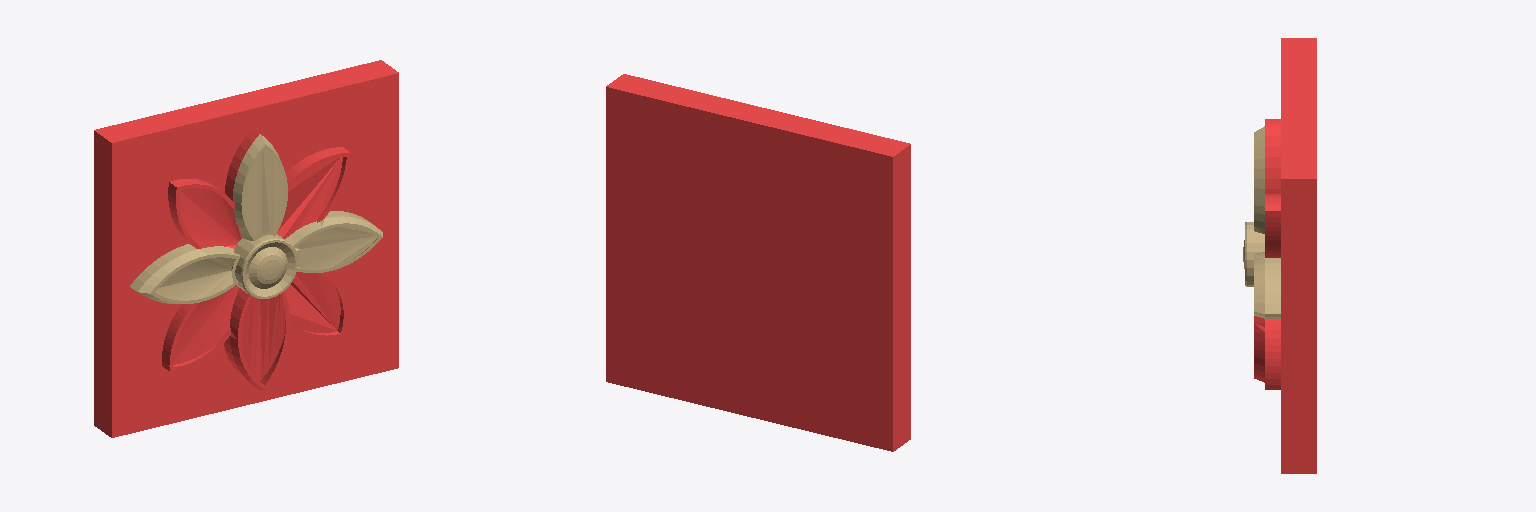
The model's file is cat11_picture.obj.
3 views of the same model, side by side, from view 1: azimuth 30°, elevation 25°; view 2: azimuth 150°, elevation 25°; view 3: azimuth 270°, elevation 25° (orthographic).
Parts seen in each view (by area): view 1: Layer_Layer0, <Beige>1; view 2: Layer_Layer0; view 3: Layer_Layer0, <Beige>1.
Part boxes in pixels (x1,y1,x2,y2): Layer_Layer0: (94,60,398,437); <Beige>1: (130,134,382,303); Layer_Layer0: (606,74,910,451); Layer_Layer0: (1254,38,1316,473); <Beige>1: (1243,126,1280,318).
Size of the model in its own units: 2311 by 2265 by 512.